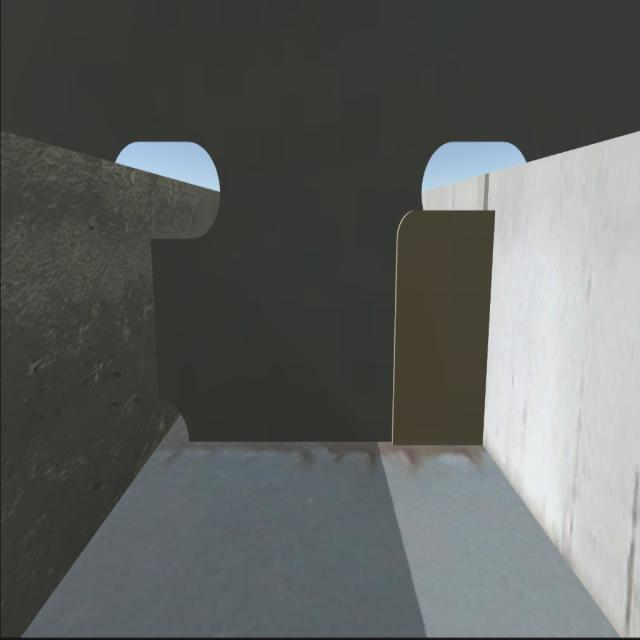fillet_hole: (158, 389, 194, 449)
fillet_yong_jeop_jang: (190, 429, 486, 453)
longi_yong_jeop_jang: (481, 207, 499, 446), (145, 247, 163, 397)
plate_CP05: (391, 212, 490, 442)
